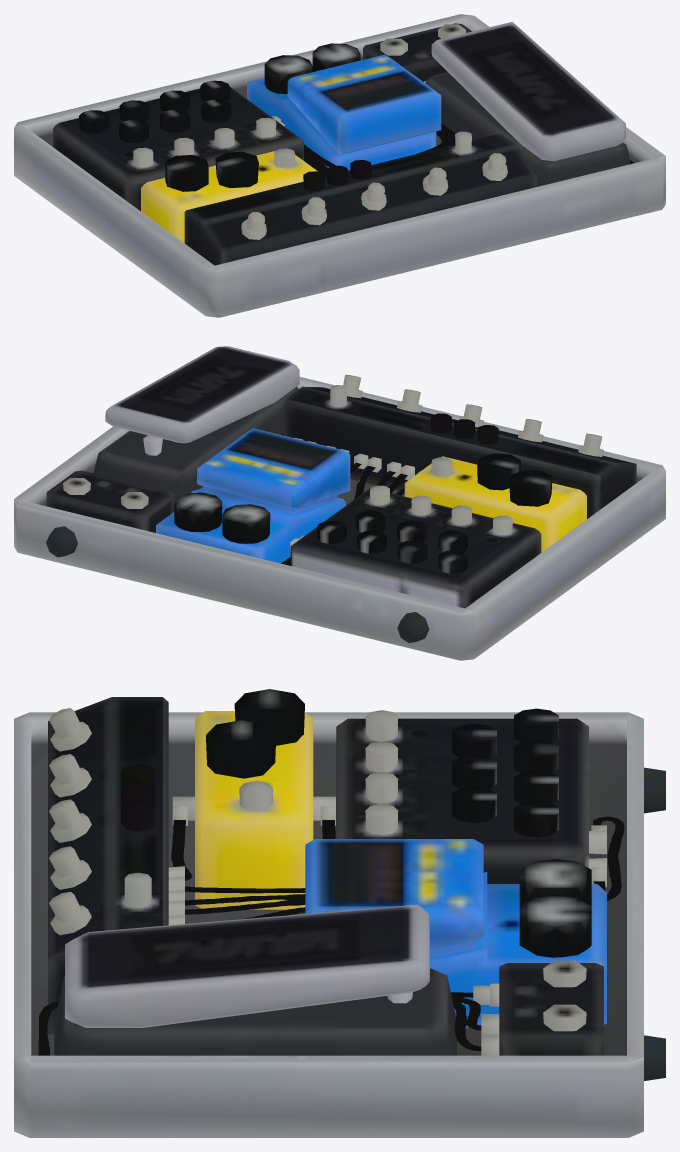
The picture shows the model from 3 angles, top to bottom: view 1: azimuth 30°, elevation 25°; view 2: azimuth 150°, elevation 25°; view 3: azimuth 270°, elevation 25°; orthographic projection. The views are drawn at different scales.
Bounding box in the file's own units: 9.13 × 1.86 × 7.17.
Materials: 2 (2 with a texture image).
